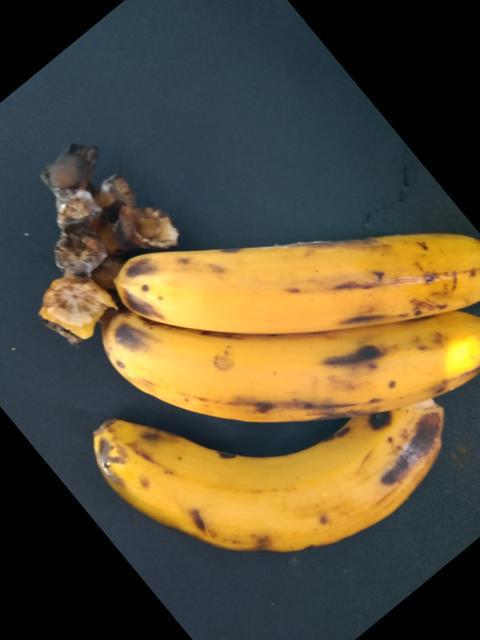overripe: (68, 411, 473, 568), (84, 299, 479, 409), (102, 215, 479, 330)
